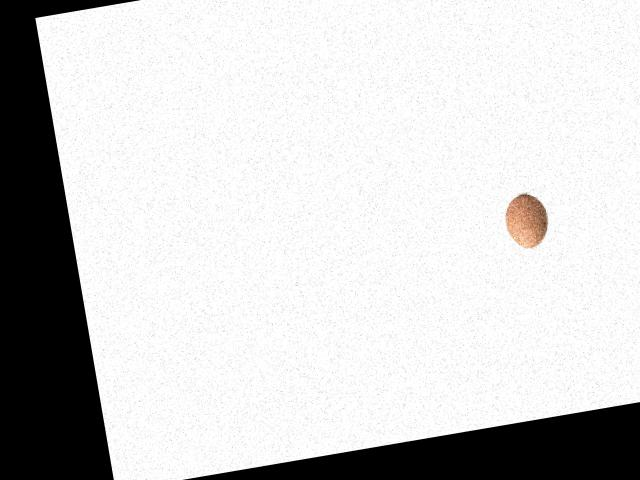egg: (502, 190, 552, 250)
